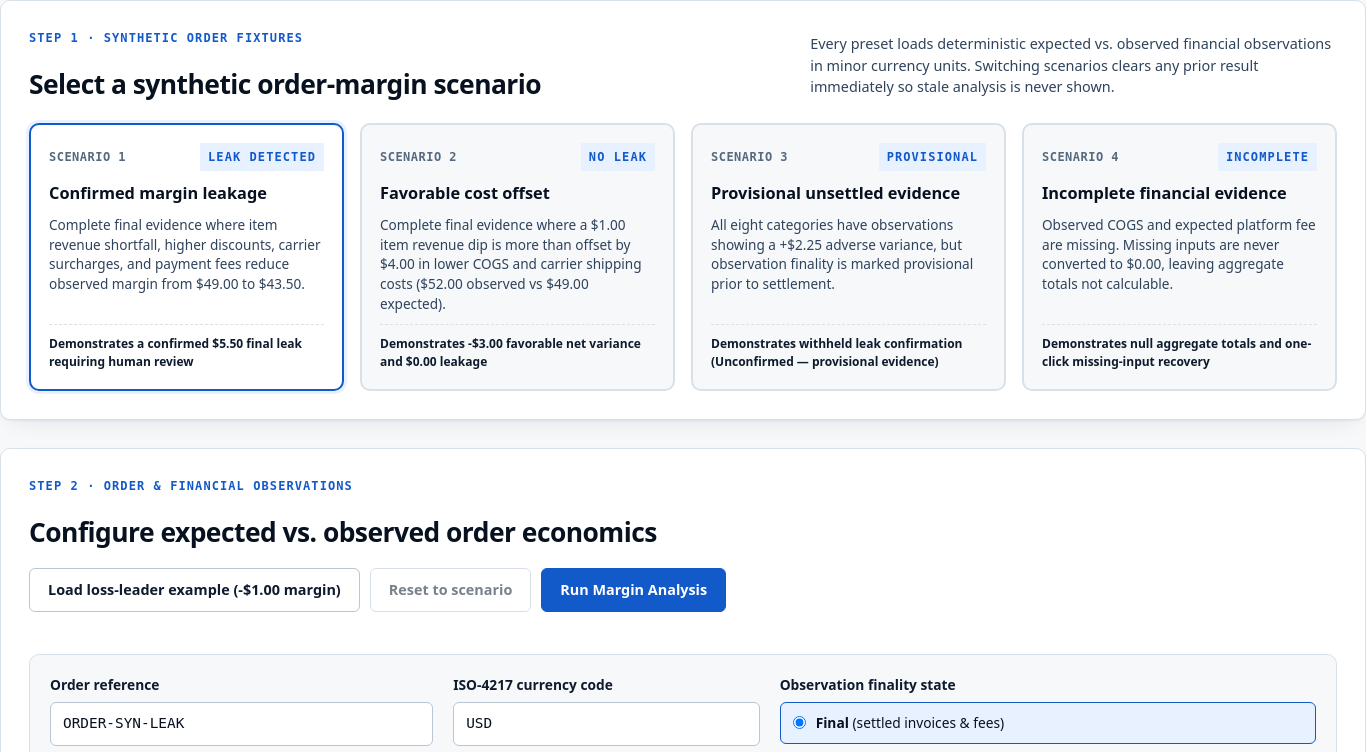
Test: MarginLeakWorkspace integration with real server route handler › evaluates Scenario 2 (No leak / favorable offset) with negative signed variance and $0.00 leak
Click the radio button labelled "Favorable cost offset": [518, 257] box top-left (360, 123), bottom-right (675, 391)
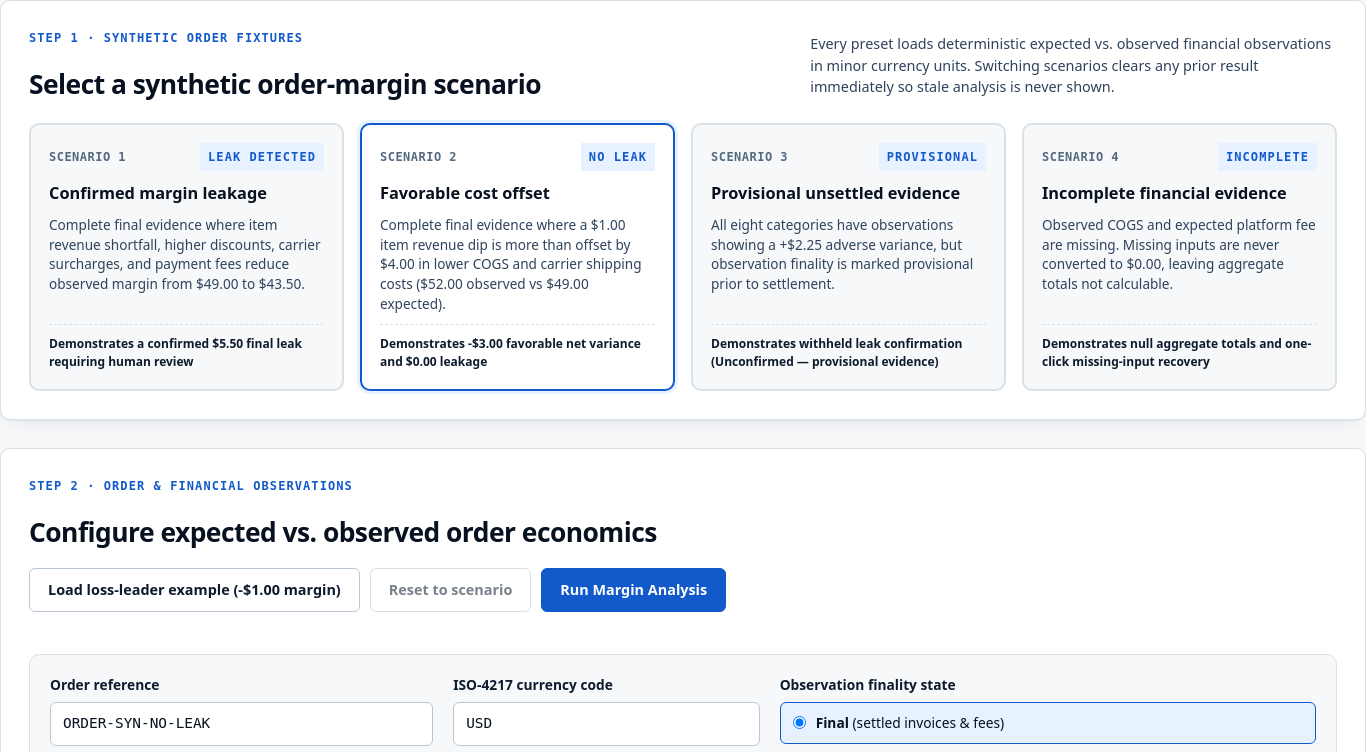
Click the button "Run Margin Analysis": [634, 590] box top-left (541, 568), bottom-right (726, 612)
(page scrolled)
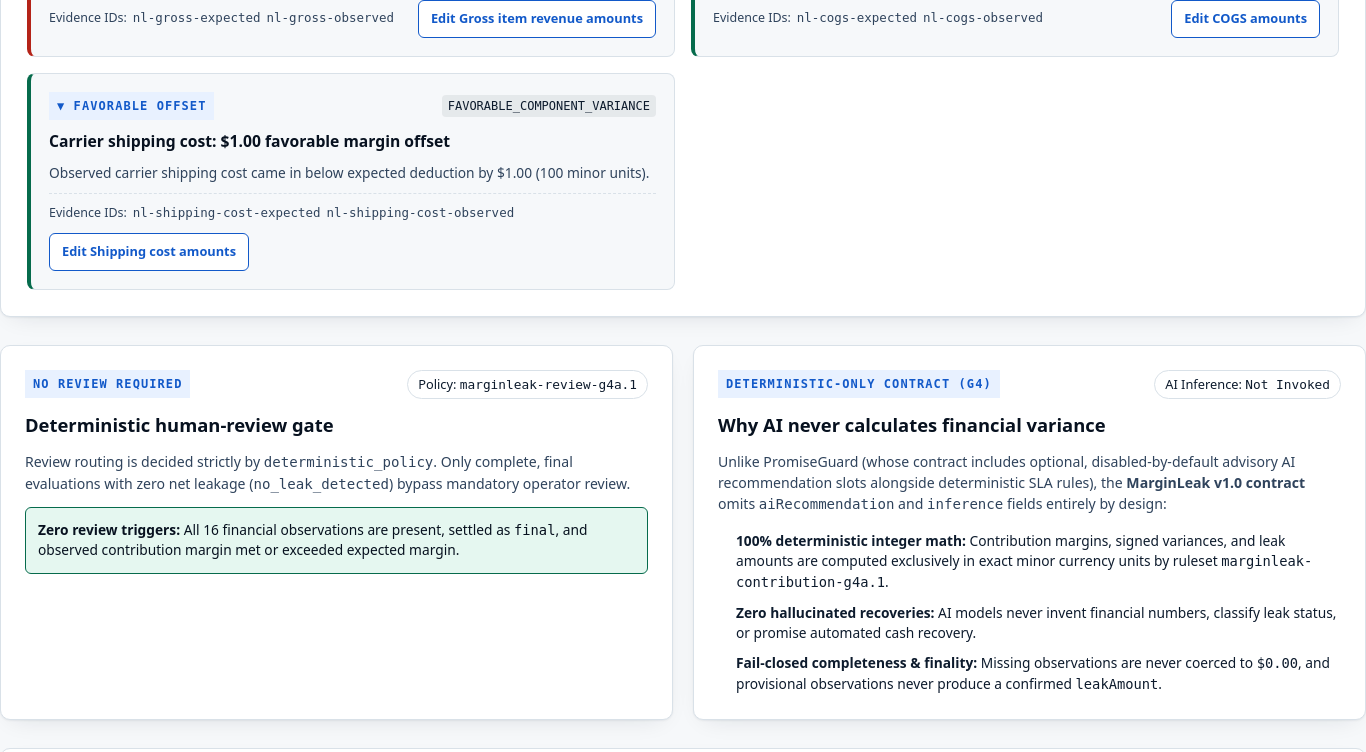
Expected: the text "No Review Required" is shown, top-left (25, 370), bottom-right (190, 398)
